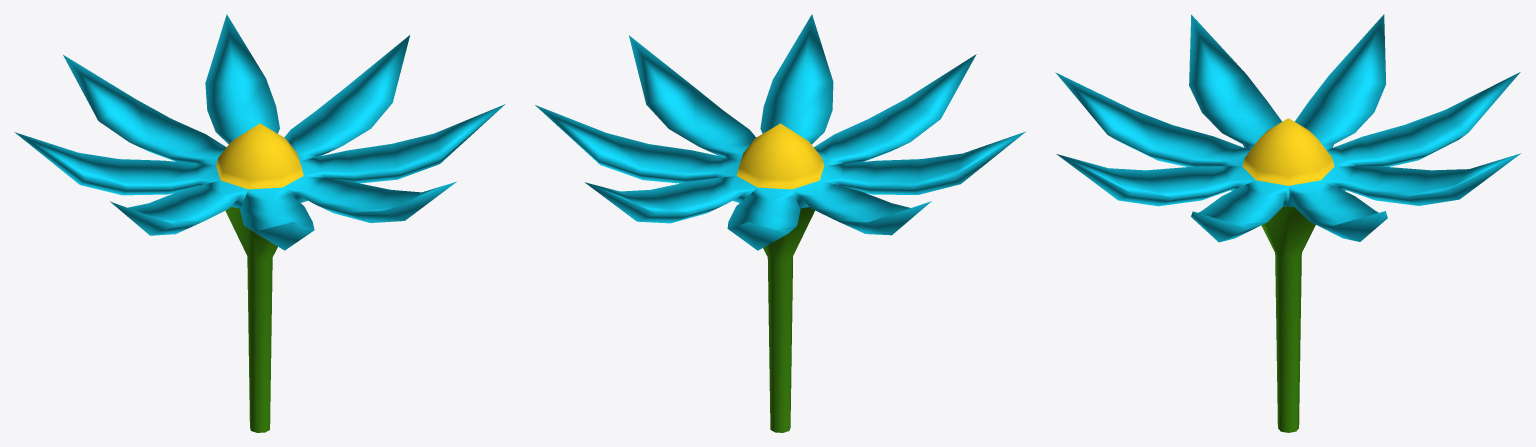
Rendered from Daisy1_Blue.fbx.
3 views of the same model, side by side, from view 1: azimuth 30°, elevation 25°; view 2: azimuth 150°, elevation 25°; view 3: azimuth 270°, elevation 25° (orthographic).
Parts seen in each view (by area): view 1: Imported OBJ Object; view 2: Imported OBJ Object; view 3: Imported OBJ Object.
Boxes of the visible parts, x1=… form: Imported OBJ Object: x1=14, y1=14, x2=505, y2=432; Imported OBJ Object: x1=535, y1=14, x2=1025, y2=432; Imported OBJ Object: x1=1055, y1=14, x2=1520, y2=432.
Bounding box in the file's own units: 71.59 × 53.47 × 71.59.
